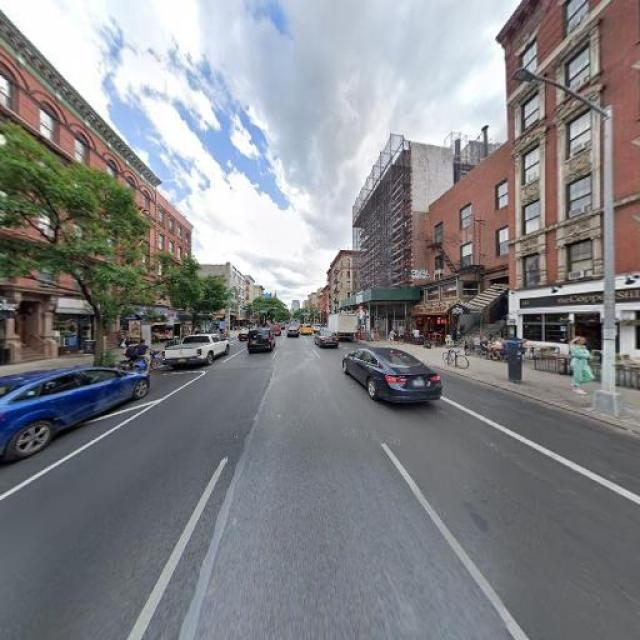Building: (1, 12, 155, 358), (512, 1, 640, 369), (429, 142, 506, 345)
